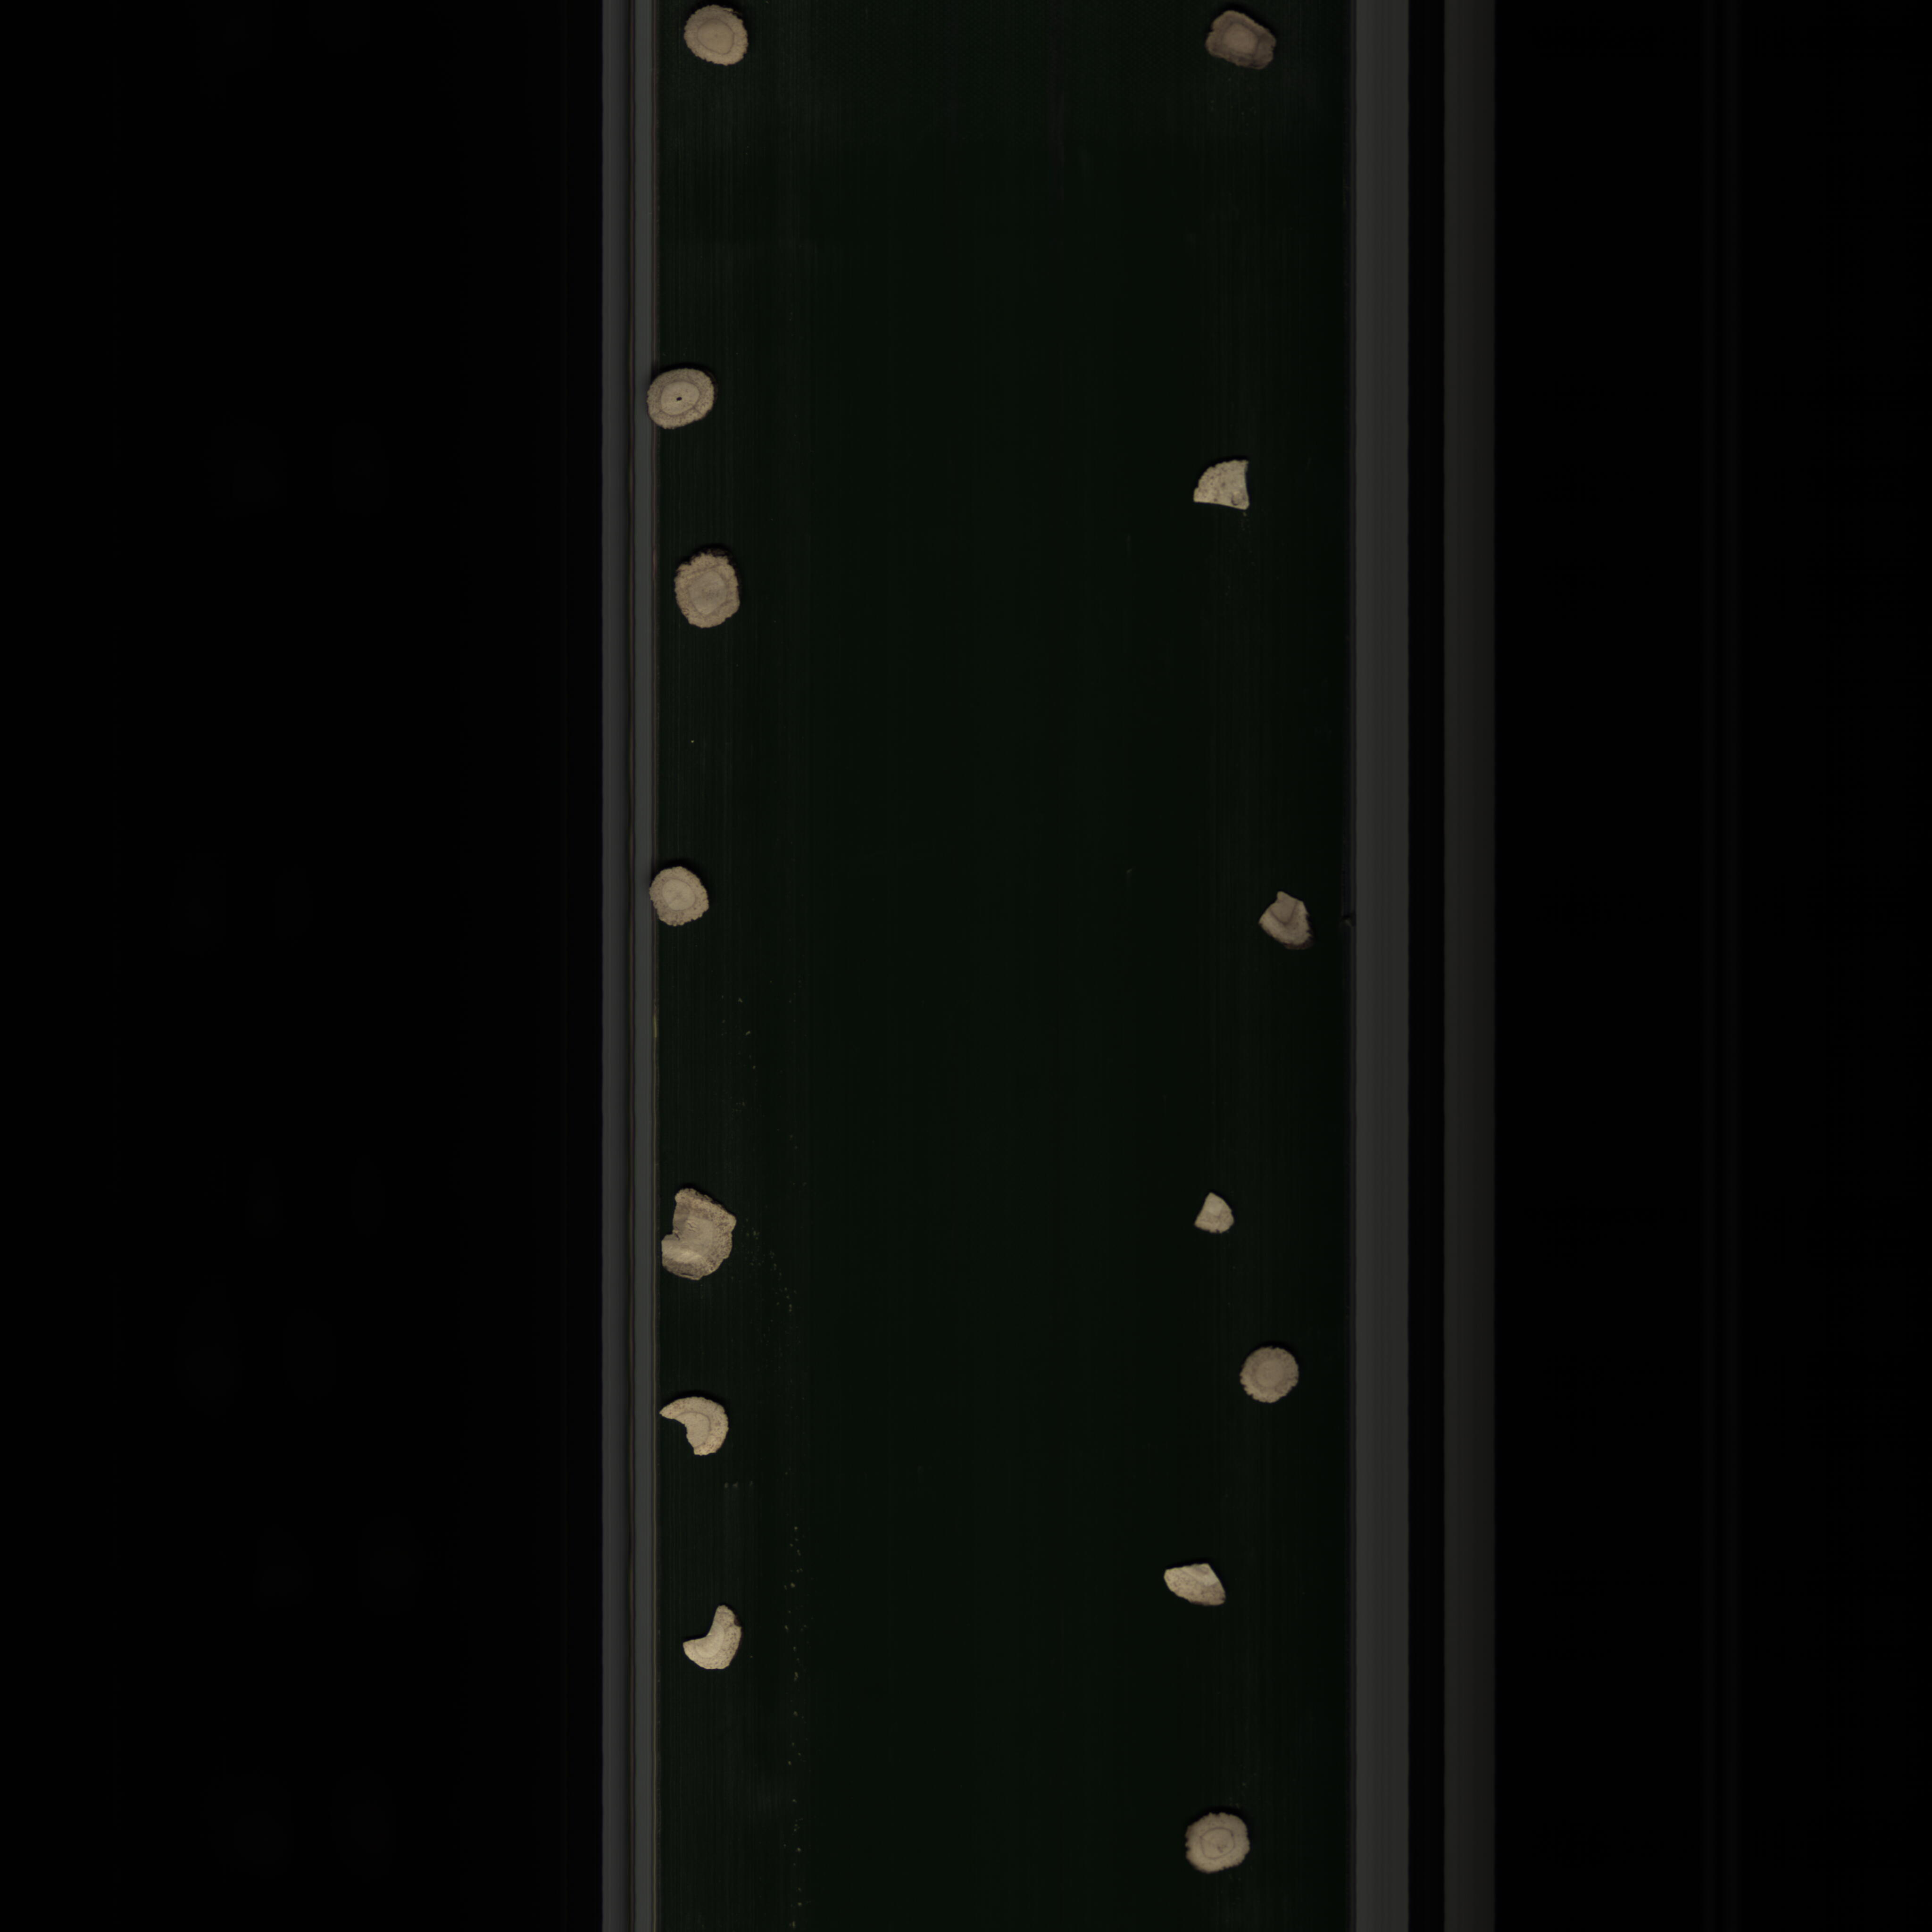debris: (660, 1180, 748, 1286), (679, 1592, 752, 1688), (1152, 1552, 1246, 1624), (662, 1387, 757, 1458), (1191, 453, 1269, 518), (1191, 1182, 1251, 1249)
hole: (640, 363, 724, 432)
moldy: (1200, 11, 1286, 85), (1260, 881, 1315, 954)
